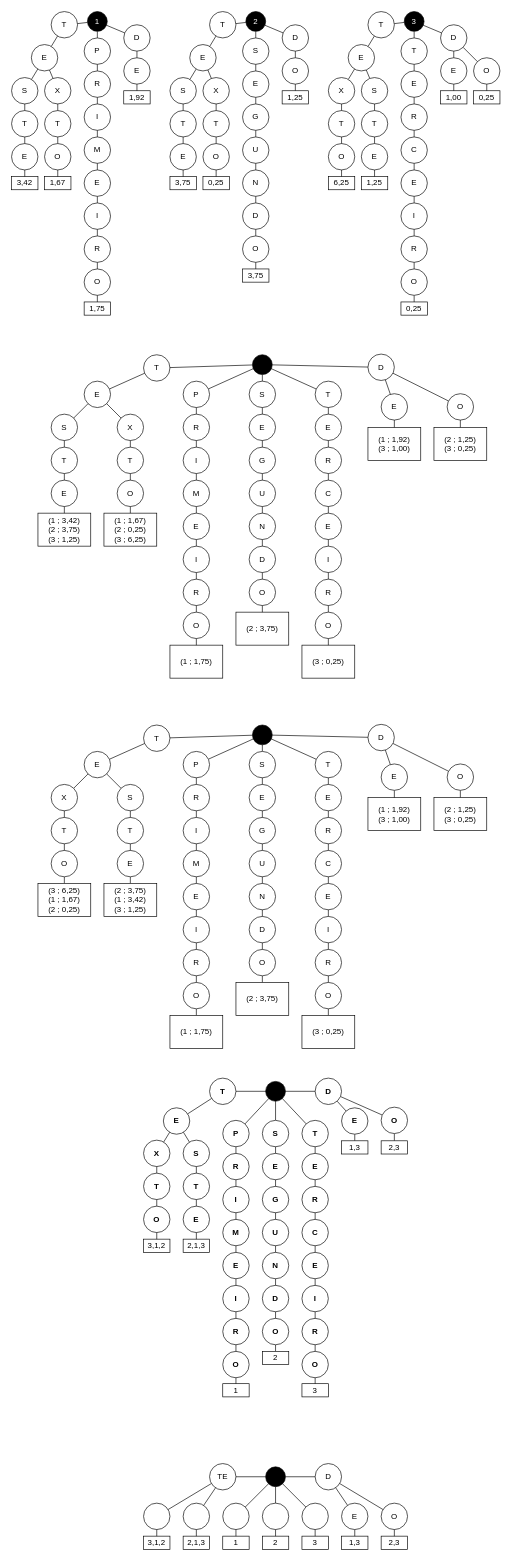
Some shapes in this 512 by 1561 pixel diagram are drawn without their labels. Here are the shapes that lost their labels. From the top down, the centre of each, then its label:
the point at 156,1516: XTO
the point at 196,1516: STE
the point at 235,1516: PRIMEIRO
the point at 275,1516: SEGUNDO
the point at 314,1516: TERCEIRO
